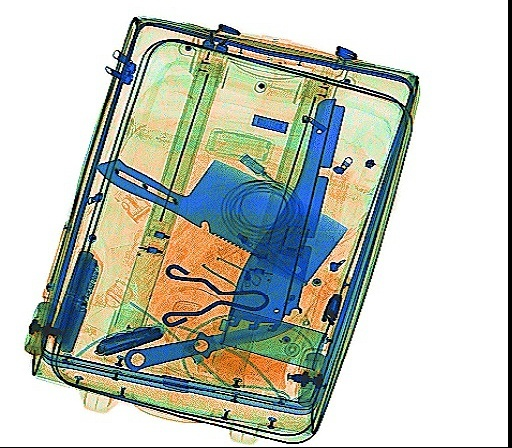knife: (90, 156, 350, 290), (121, 320, 298, 373), (91, 324, 165, 358)
powerbank: (47, 244, 105, 358)
slingshot: (159, 257, 269, 329)
zippooil: (213, 309, 327, 370)
